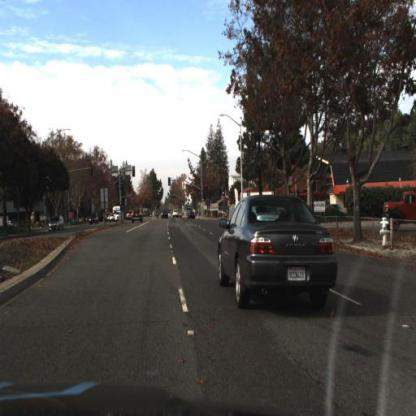car: (206, 181, 353, 339), (384, 191, 416, 230), (48, 213, 66, 234), (129, 206, 146, 227), (131, 207, 146, 228), (86, 211, 101, 230), (158, 206, 172, 224), (187, 208, 200, 225), (88, 212, 101, 227), (171, 207, 183, 223)
